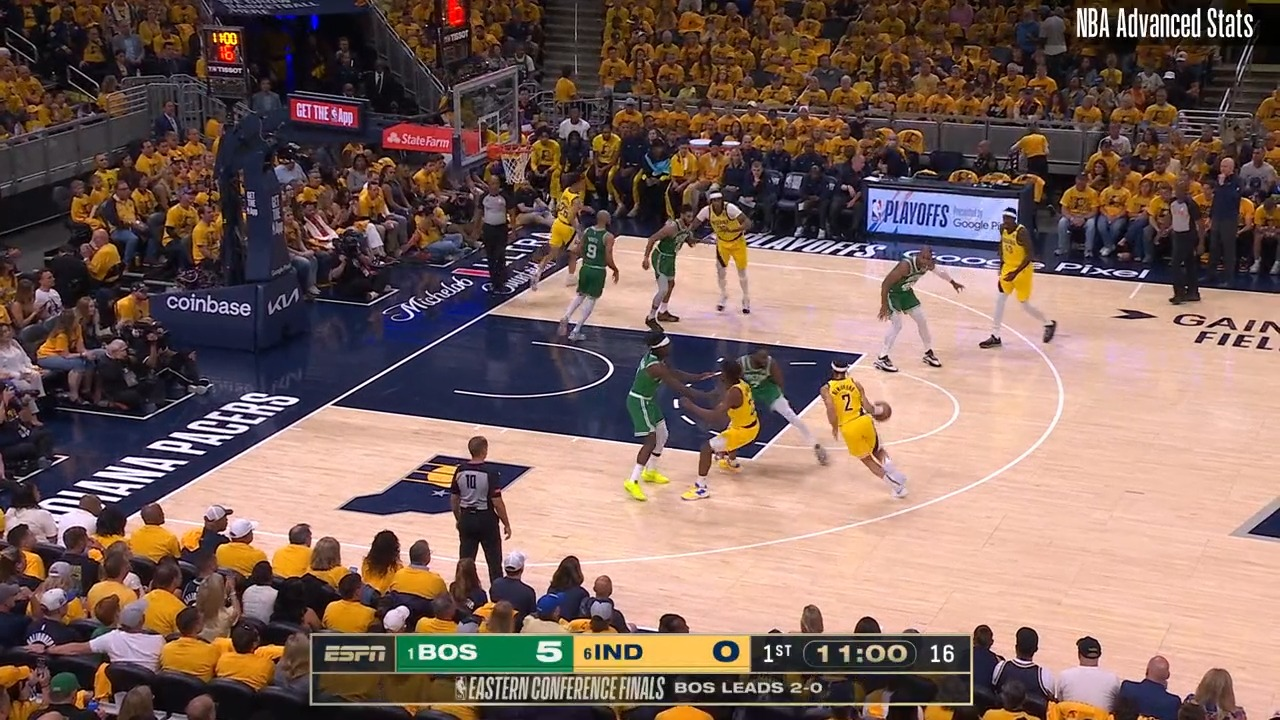basketball: (873, 401, 891, 421)
